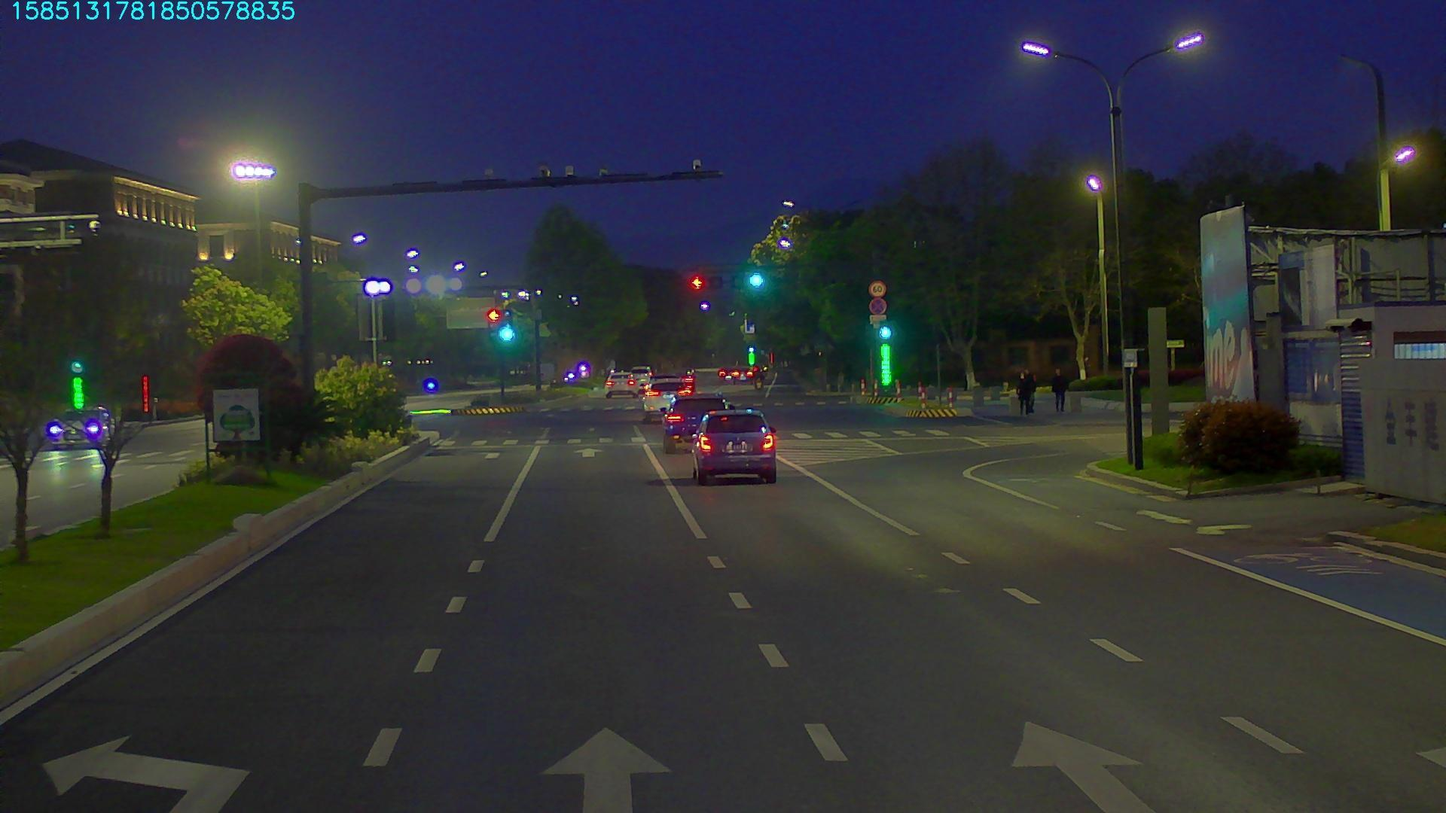green: (745, 266, 764, 293)
red: (688, 273, 709, 292)
